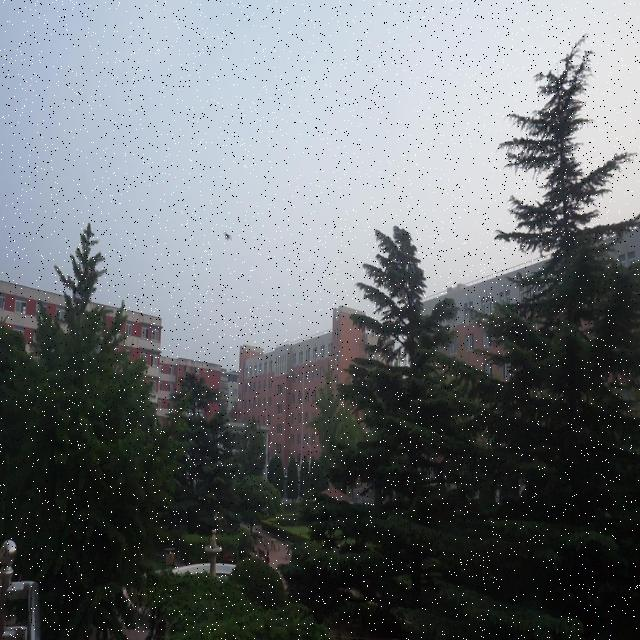UAV: (223, 230, 232, 242)
